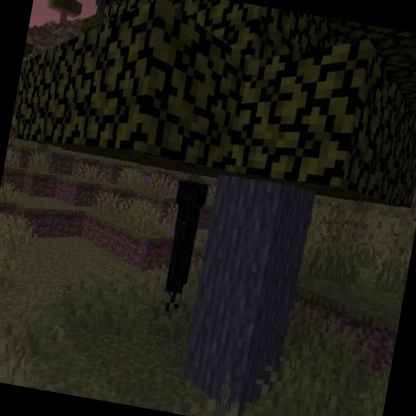enderman: (154, 177, 211, 314)
